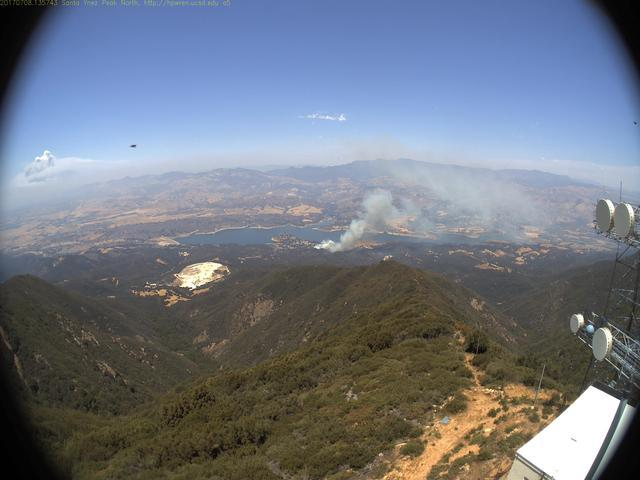smoke: (308, 155, 552, 257)
